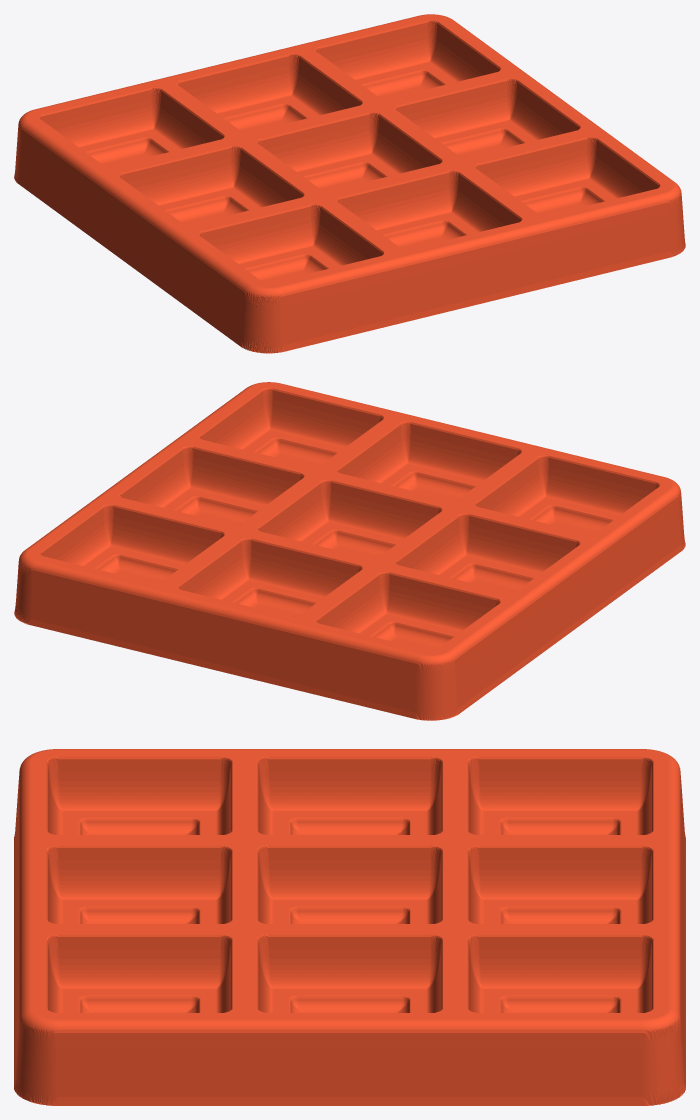
The model's file is mold.glb.
3 views of the same model, one above another, from view 1: azimuth 30°, elevation 25°; view 2: azimuth 150°, elevation 25°; view 3: azimuth 270°, elevation 25° (orthographic). The views are drawn at different scales.
Parts seen in each view (by area): view 1: geometry_0; view 2: geometry_0; view 3: geometry_0.
Part boxes in pixels (x1=…): geometry_0: x1=14, y1=14, x2=685, y2=353; geometry_0: x1=14, y1=382, x2=685, y2=720; geometry_0: x1=14, y1=749, x2=685, y2=1105.
Size of the model in its own units: 0.1402 by 0.0182 by 0.1402.
